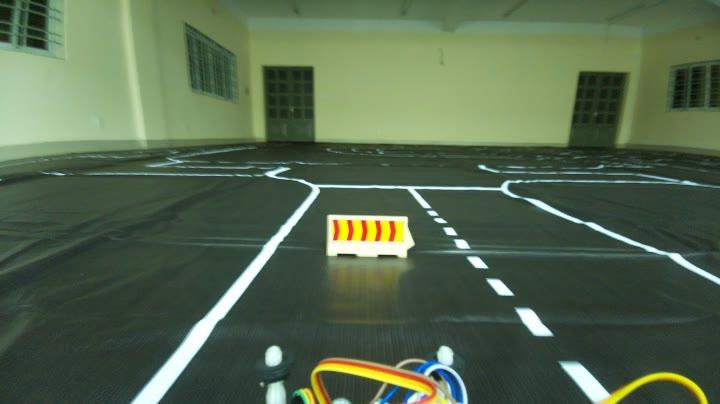roadblock: (321, 206, 424, 272)
